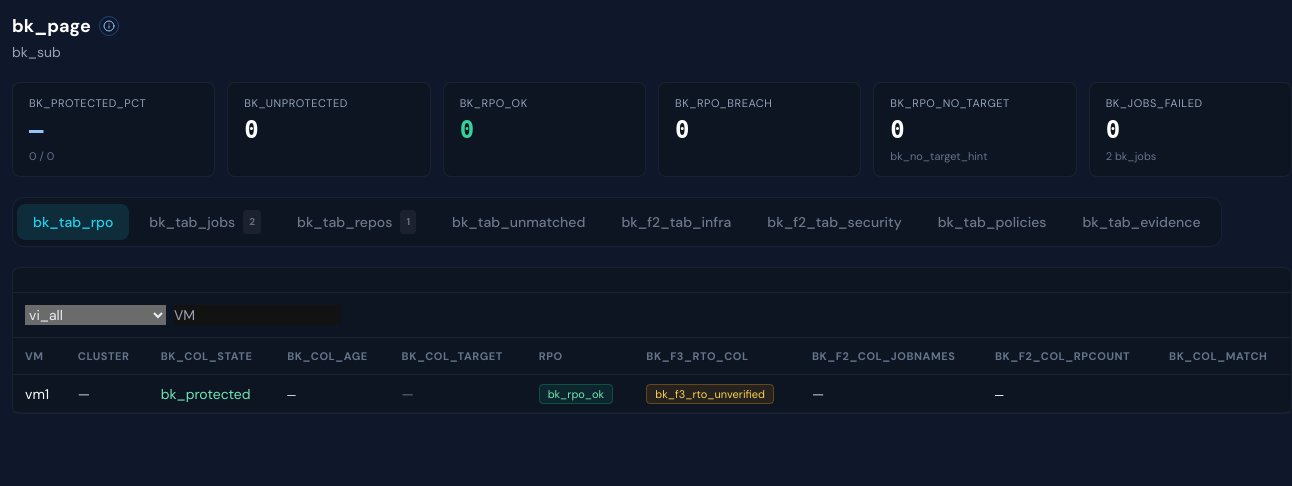
Test: F.2 Yedek sekmeleri › Altyapı tab: proxy durumu ve "güncel değil"
Click the button "bk_f2_tab_infra".
click(676, 222)  # box [605, 204, 747, 240]
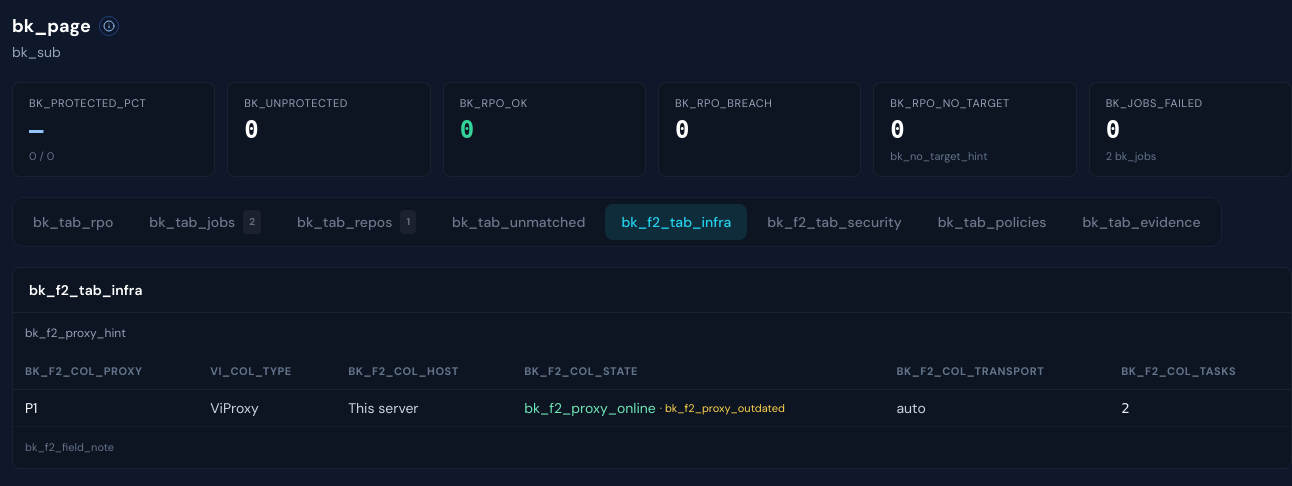
Now the text "P1" is shown, box [25, 399, 38, 417]
Now the text "This server" is shown, box [336, 390, 512, 426]
Now the text "bk_f2_proxy_online" is shown, box [524, 398, 656, 418]
